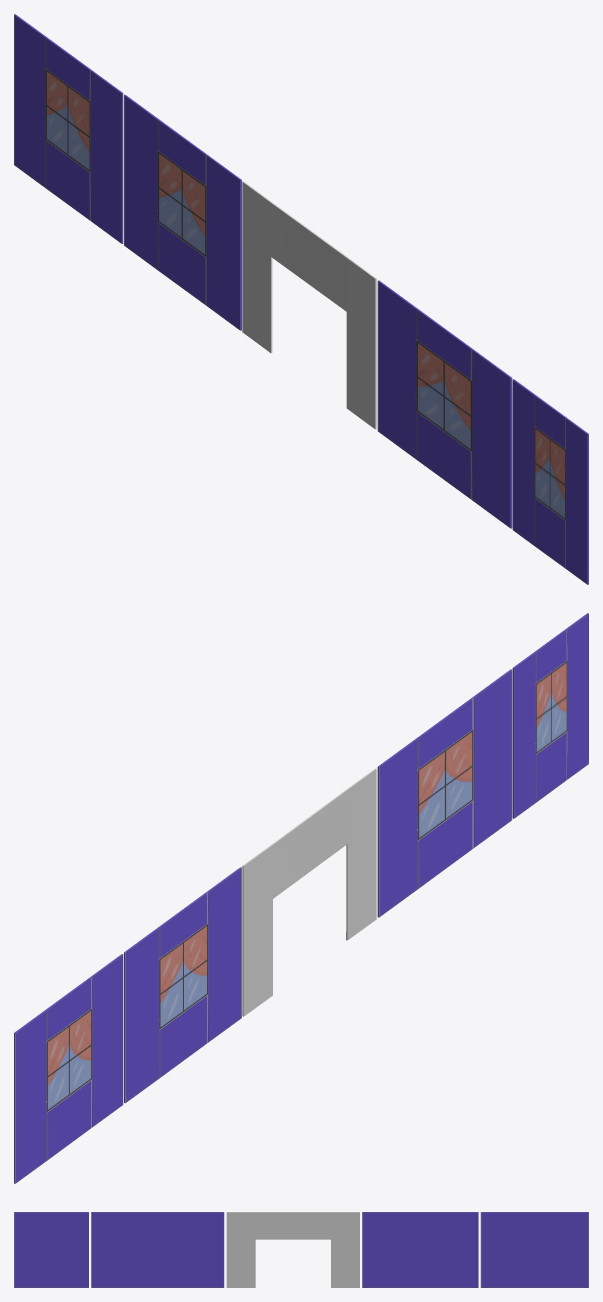
The model's file is Front_Walls_01.fbx.
3 renders of one model, top to bottom at view 1: azimuth 30°, elevation 25°; view 2: azimuth 150°, elevation 25°; view 3: azimuth 270°, elevation 25°, orthographic. The views are drawn at different scales.
Parts seen in each view (by area): view 1: Living_Front_Wall_01, Kitchen_Front_Wall_01, Stair_Front_Wall_01, Entry_Front_Wall_01, Bathroom_Front_Wall_01; view 2: Living_Front_Wall_01, Kitchen_Front_Wall_01, Stair_Front_Wall_01, Entry_Front_Wall_01, Bathroom_Front_Wall_01; view 3: Living_Front_Wall_01, Kitchen_Front_Wall_01, Stair_Front_Wall_01, Entry_Front_Wall_01, Bathroom_Front_Wall_01.
Part boxes in pixels (x1,y1,x2,y2): Living_Front_Wall_01: (377, 280, 512, 528); Kitchen_Front_Wall_01: (124, 94, 241, 330); Stair_Front_Wall_01: (14, 14, 123, 243); Entry_Front_Wall_01: (242, 181, 376, 429); Bathroom_Front_Wall_01: (512, 379, 588, 584); Living_Front_Wall_01: (377, 669, 512, 917); Kitchen_Front_Wall_01: (124, 867, 241, 1103); Stair_Front_Wall_01: (14, 954, 123, 1183); Entry_Front_Wall_01: (242, 768, 376, 1016); Bathroom_Front_Wall_01: (512, 613, 588, 818); Living_Front_Wall_01: (91, 1212, 224, 1287); Kitchen_Front_Wall_01: (362, 1212, 478, 1287); Stair_Front_Wall_01: (480, 1212, 588, 1287); Entry_Front_Wall_01: (226, 1212, 359, 1287); Bathroom_Front_Wall_01: (14, 1212, 88, 1287).
Size of the model in its own units: 0.1279 by 10 by 69.02.
Materials: 2 (1 with a texture image).
